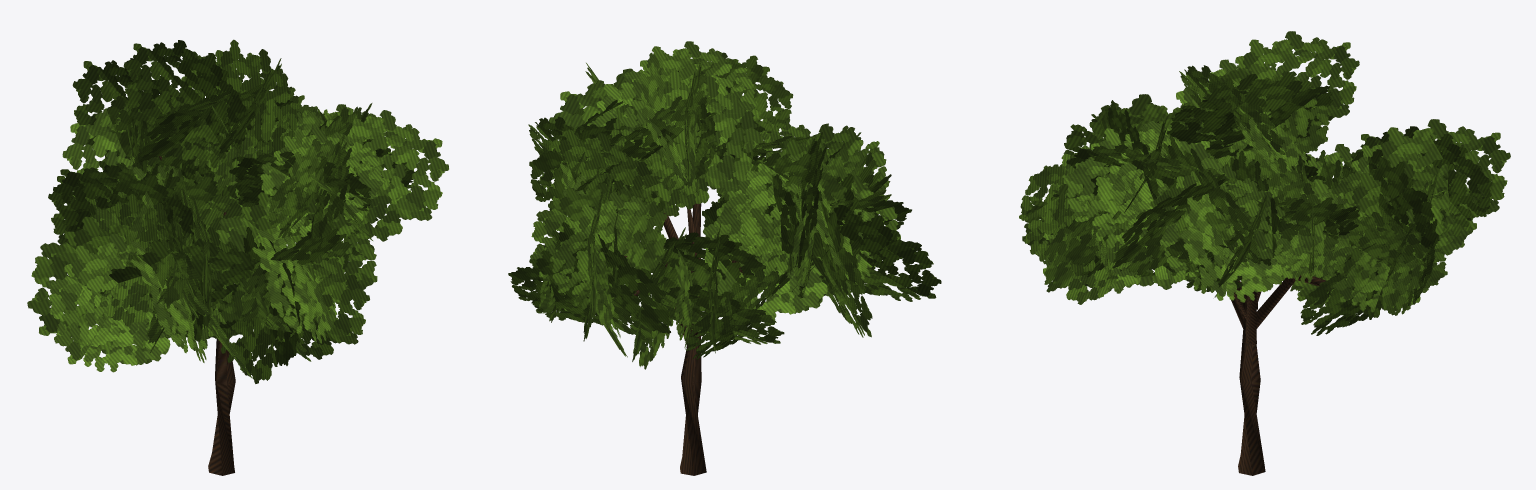
File: oak2Far.glb
3 views of the same model, side by side, from view 1: azimuth 30°, elevation 25°; view 2: azimuth 150°, elevation 25°; view 3: azimuth 270°, elevation 25° (orthographic). The views are drawn at different scales.
Visible parts, largest first — view 1: Rameaux feuillus oak2Far, Tronc et branches oak2Far; view 2: Rameaux feuillus oak2Far, Tronc et branches oak2Far; view 3: Rameaux feuillus oak2Far, Tronc et branches oak2Far.
Part boxes in pixels (x1,y1,x2,y2): Rameaux feuillus oak2Far: (27,39,448,383); Tronc et branches oak2Far: (159,156,235,475); Rameaux feuillus oak2Far: (508,41,941,369); Tronc et branches oak2Far: (624,203,743,475); Rameaux feuillus oak2Far: (1019,31,1510,335); Tronc et branches oak2Far: (1231,275,1325,475).
Bounding box in the file's own units: 14.46 × 14.1 × 15.71.
Materials: 2 (2 with a texture image).
